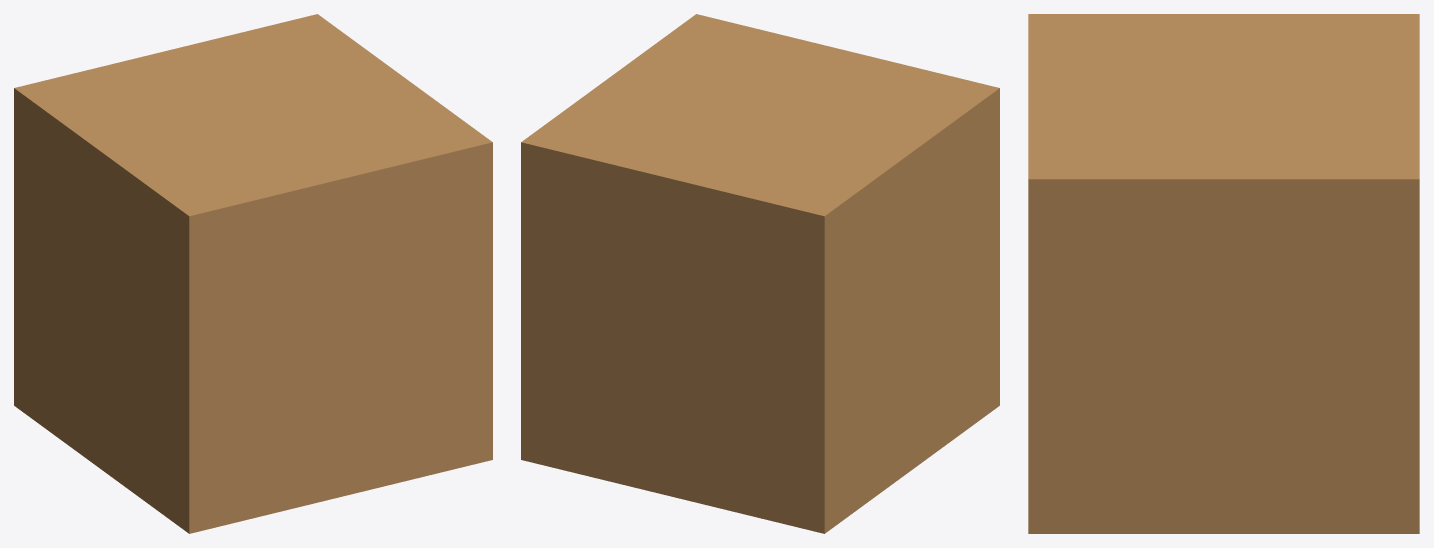
Rendered from floor1.gltf.
3 renders of one model, left to right at view 1: azimuth 30°, elevation 25°; view 2: azimuth 150°, elevation 25°; view 3: azimuth 270°, elevation 25°, orthographic. The views are drawn at different scales.
Size of the model in its own units: 10 by 10 by 10.
Materials: 1 (1 with a texture image).
